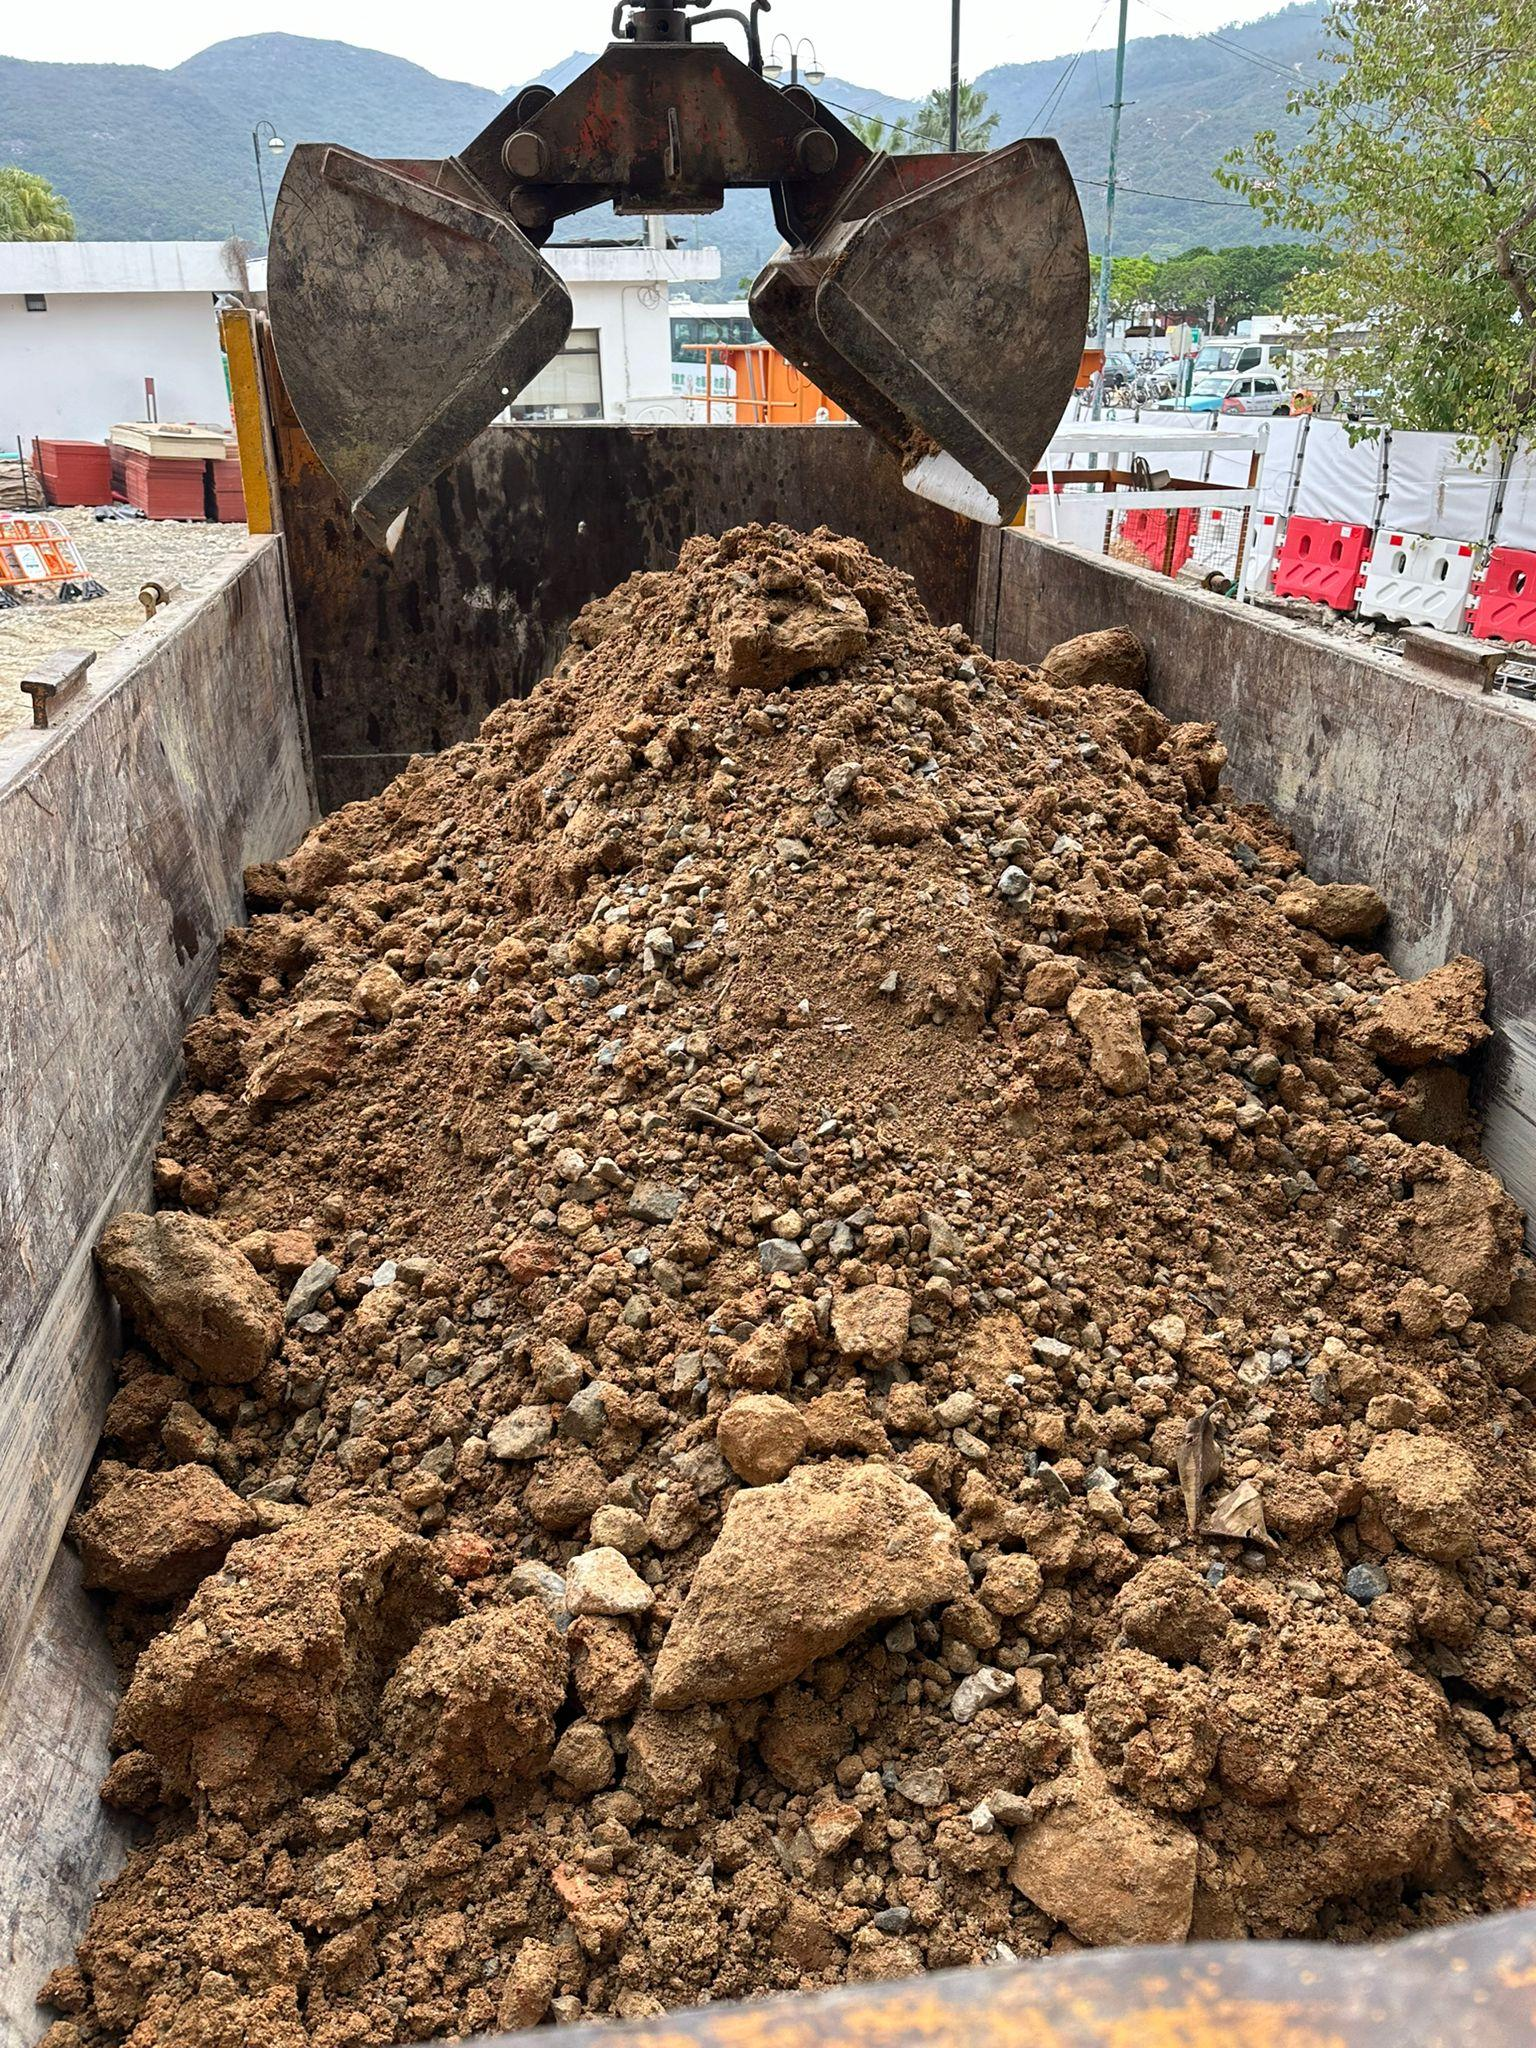wet: (103, 519, 1523, 2017)
